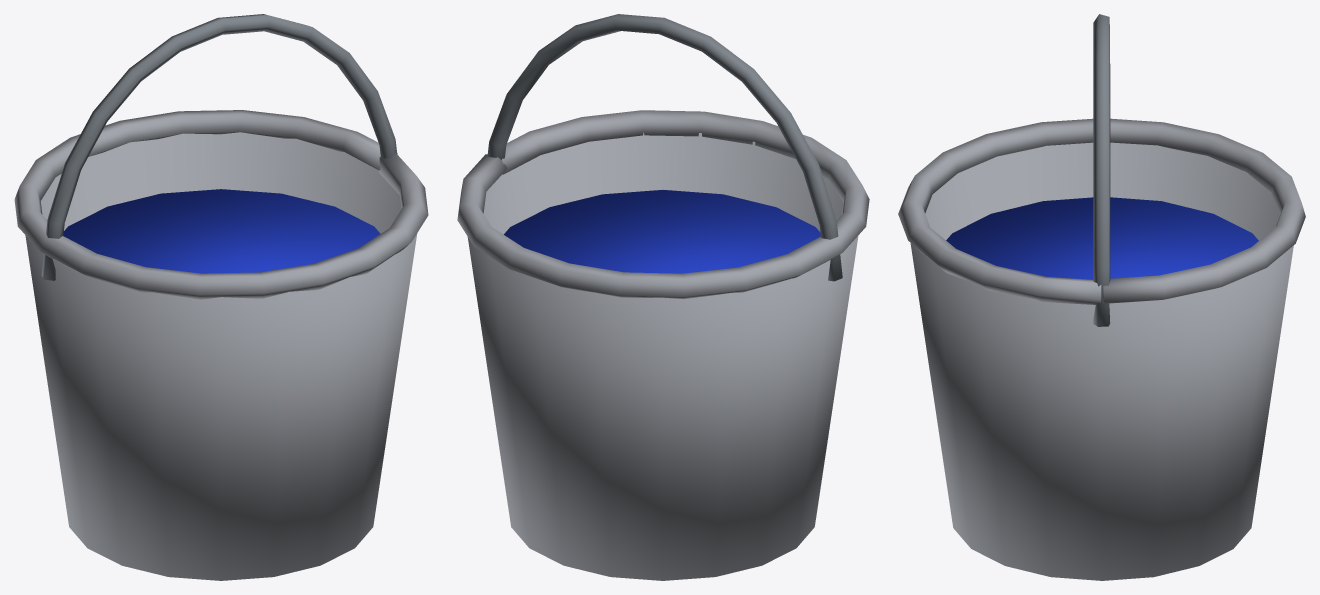
The model's file is blue_paint.glb.
3 renders of one model, left to right at view 1: azimuth 30°, elevation 25°; view 2: azimuth 150°, elevation 25°; view 3: azimuth 270°, elevation 25°, orthographic.
Visible parts, largest first — view 1: blue_paint_v0; view 2: blue_paint_v0; view 3: blue_paint_v0.
Boxes of the visible parts, left/top/right/bottom form: blue_paint_v0: left=14, top=14, right=428, bottom=580; blue_paint_v0: left=457, top=14, right=869, bottom=580; blue_paint_v0: left=898, top=14, right=1305, bottom=580.
Bounding box in the file's own units: 0.2696 × 0.3556 × 0.2693.
